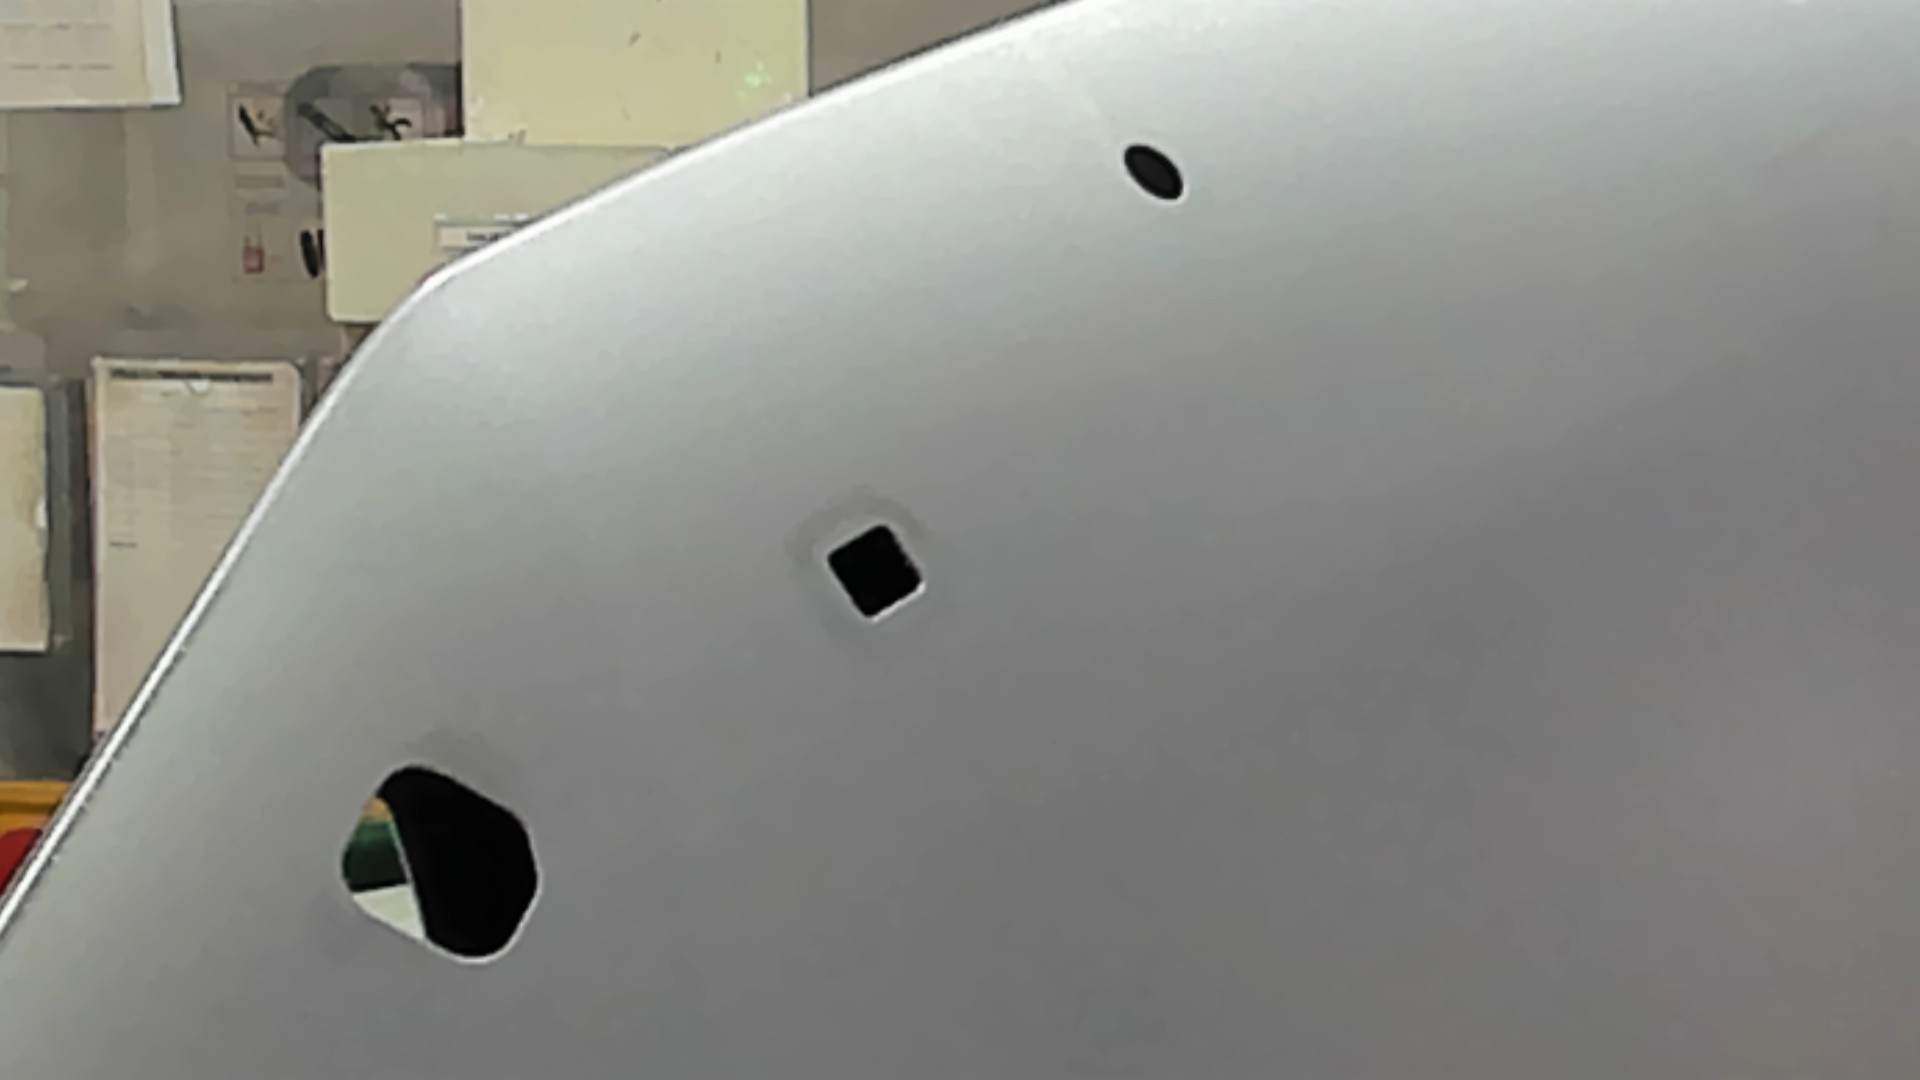chico: (1120, 129, 1197, 208)
grande: (315, 756, 555, 986)
mediano: (816, 502, 942, 642)
